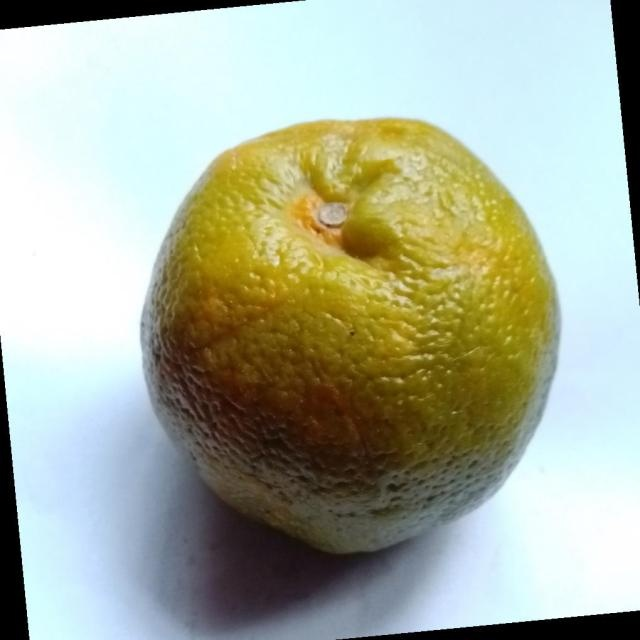agrume: (138, 115, 562, 556)
